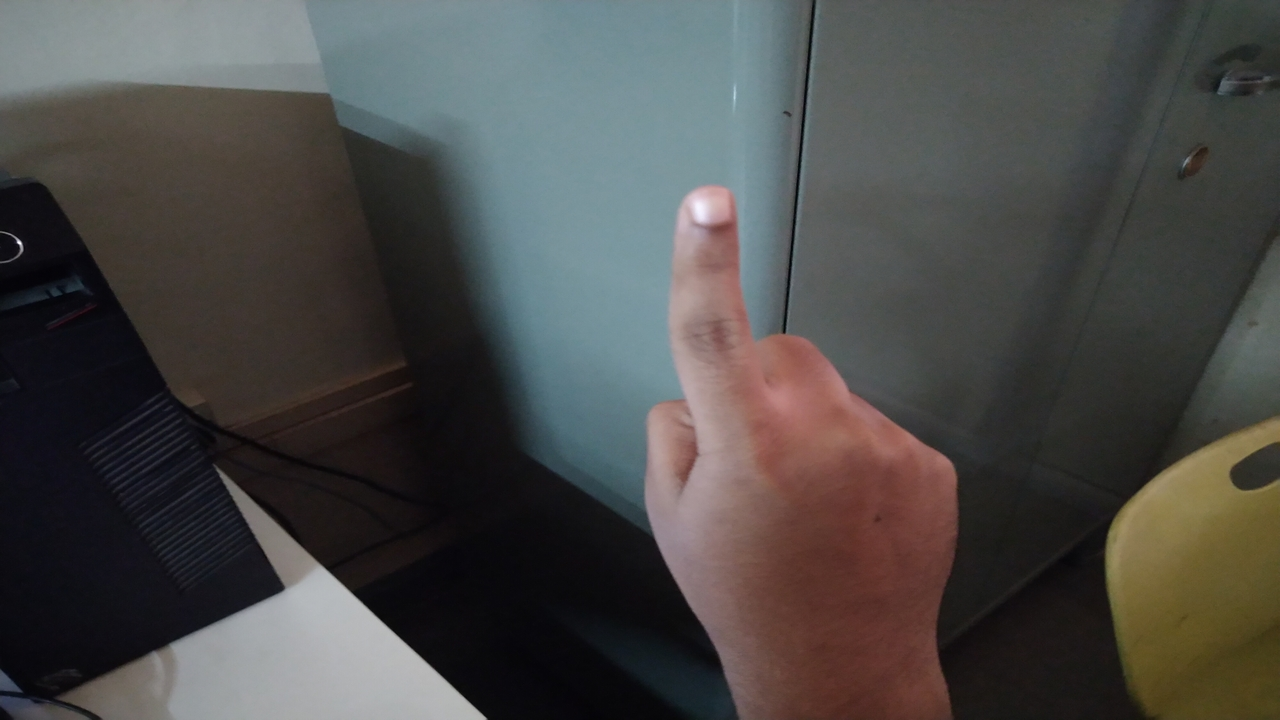fingertip: (674, 178, 740, 244)
